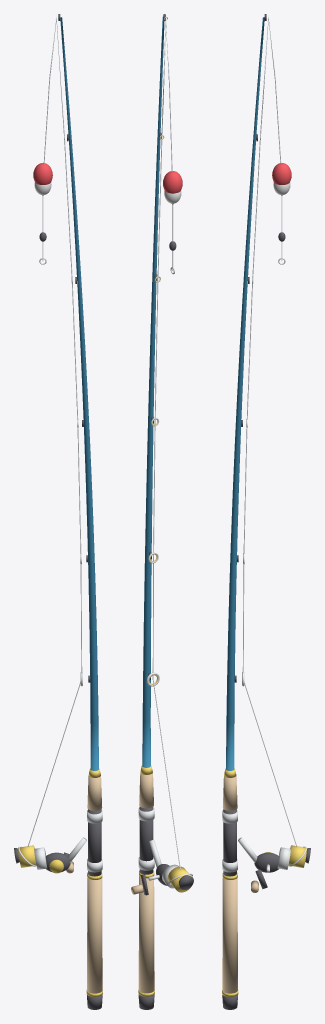
Rendered from FishingRod.fbx.
The picture shows the model from 3 angles, left to right: view 1: azimuth 90°, elevation 25°; view 2: azimuth 210°, elevation 25°; view 3: azimuth 270°, elevation 25°; orthographic projection.
Parts seen in each view (by area): view 1: RodBlank, MainGrip, FishingLine, ReelSeatBody, ForeGrip, BobberTop, ReelSpool, ReelGearbox, ReelRotor; view 2: RodBlank, MainGrip, FishingLine, ReelSeatBody, ForeGrip, BobberTop, ReelSpool, ButtCap; view 3: RodBlank, MainGrip, FishingLine, ReelSeatBody, ForeGrip, ReelGearbox, BobberTop, ReelSpool, ReelRotor.
Boxes of the visible parts, box(x1,y1,x2,y2) form: RodBlank: box(60, 17, 98, 770); MainGrip: box(87, 878, 102, 993); FishingLine: box(27, 17, 82, 846); ReelSeatBody: box(88, 809, 101, 876); ForeGrip: box(87, 776, 102, 810); BobberTop: box(33, 163, 52, 184); ReelSpool: box(18, 845, 36, 867); ReelGearbox: box(45, 852, 70, 872); ReelRotor: box(34, 847, 47, 869); RodBlank: box(142, 17, 164, 767); MainGrip: box(138, 876, 154, 993); FishingLine: box(152, 19, 180, 869); ReelSeatBody: box(139, 806, 153, 874); ForeGrip: box(139, 773, 153, 808); BobberTop: box(163, 171, 182, 193); ReelSpool: box(167, 866, 192, 892); ButtCap: box(138, 994, 154, 1009); RodBlank: box(226, 17, 264, 770); MainGrip: box(222, 878, 237, 993); FishingLine: box(242, 17, 297, 846); ReelSeatBody: box(223, 809, 236, 876); ForeGrip: box(222, 776, 237, 810); ReelGearbox: box(254, 852, 279, 872); BobberTop: box(272, 163, 291, 184); ReelSpool: box(288, 845, 306, 867); ReelRotor: box(277, 847, 290, 869).
Bounding box in the file's own units: 0.0948 × 2.44 × 0.1982.
